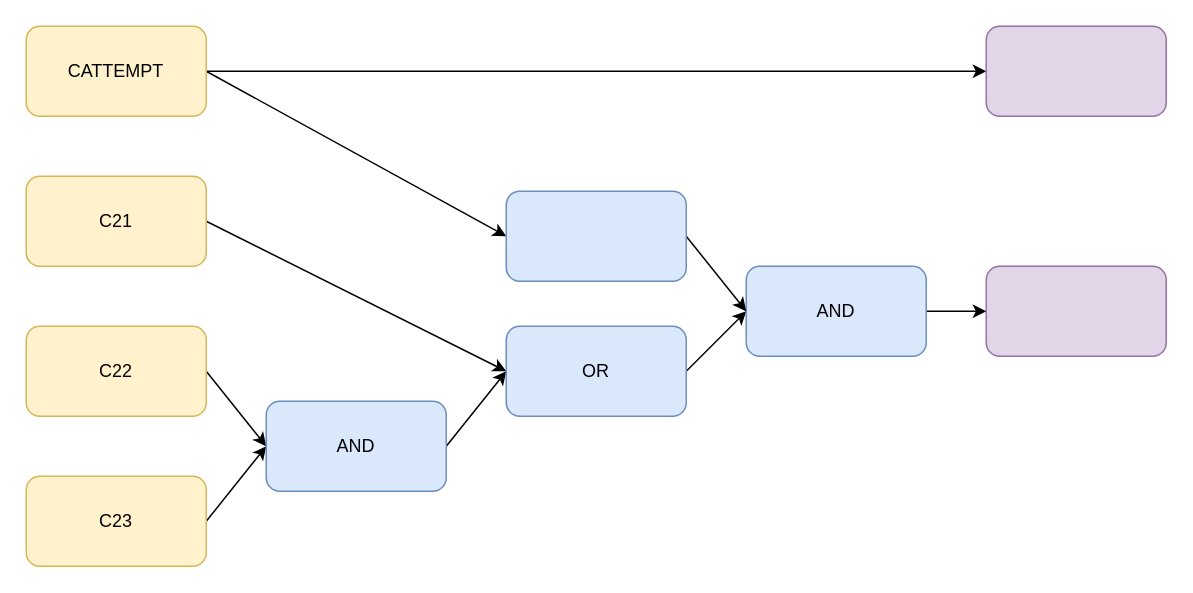
Some shapes in this 1193 by 593 pixel diagram are drawn without their labels. Here are the shapes that lost their labels. From the top down, the box of each, then its label:
(985, 25, 1166, 116): E1
(505, 190, 686, 281): NOT
(985, 265, 1166, 356): E2
